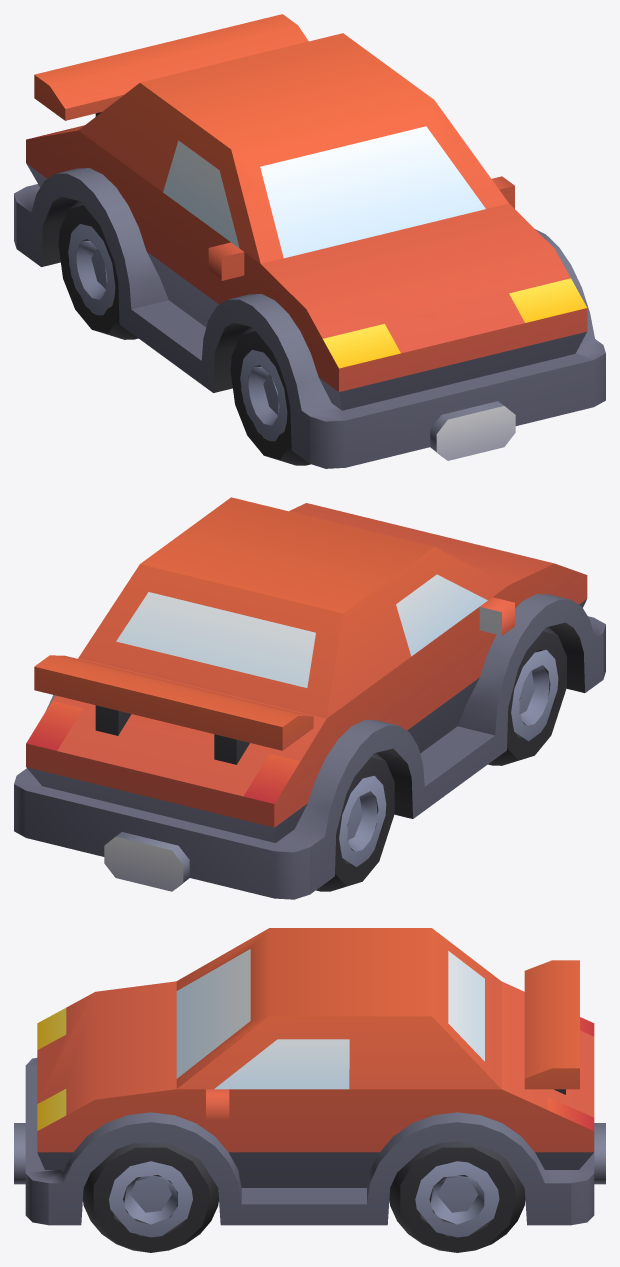
File: sedan-sports.glb
3 views of the same model, one above another, from view 1: azimuth 30°, elevation 25°; view 2: azimuth 150°, elevation 25°; view 3: azimuth 270°, elevation 25° (orthographic). The views are drawn at different scales.
Visible parts, largest first — view 1: wheel-back-right; view 2: wheel-back-right; view 3: wheel-back-right.
Part boxes in pixels (<box>): wheel-back-right: <box>14,14,605,468</box>; wheel-back-right: <box>14,497,605,899</box>; wheel-back-right: <box>14,928,605,1252</box>.
Bounding box in the file's own units: 1.95 × 1.65 × 3.82.
1 material, 1 textured.
